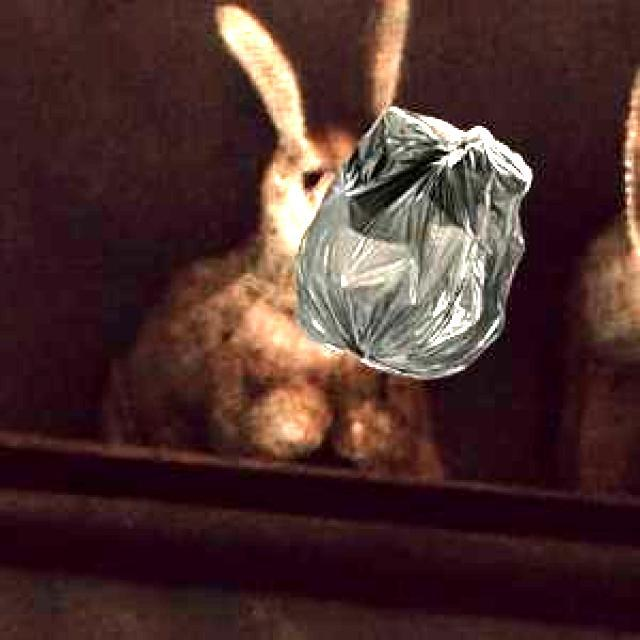Garbage_Bag: (293, 106, 528, 374)
